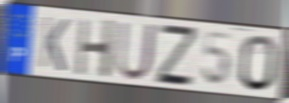5: (201, 29, 234, 89)
H: (74, 17, 118, 81)
K: (37, 14, 71, 74)
O: (239, 33, 279, 94)
U: (114, 20, 159, 83)
Z: (155, 21, 198, 88)
